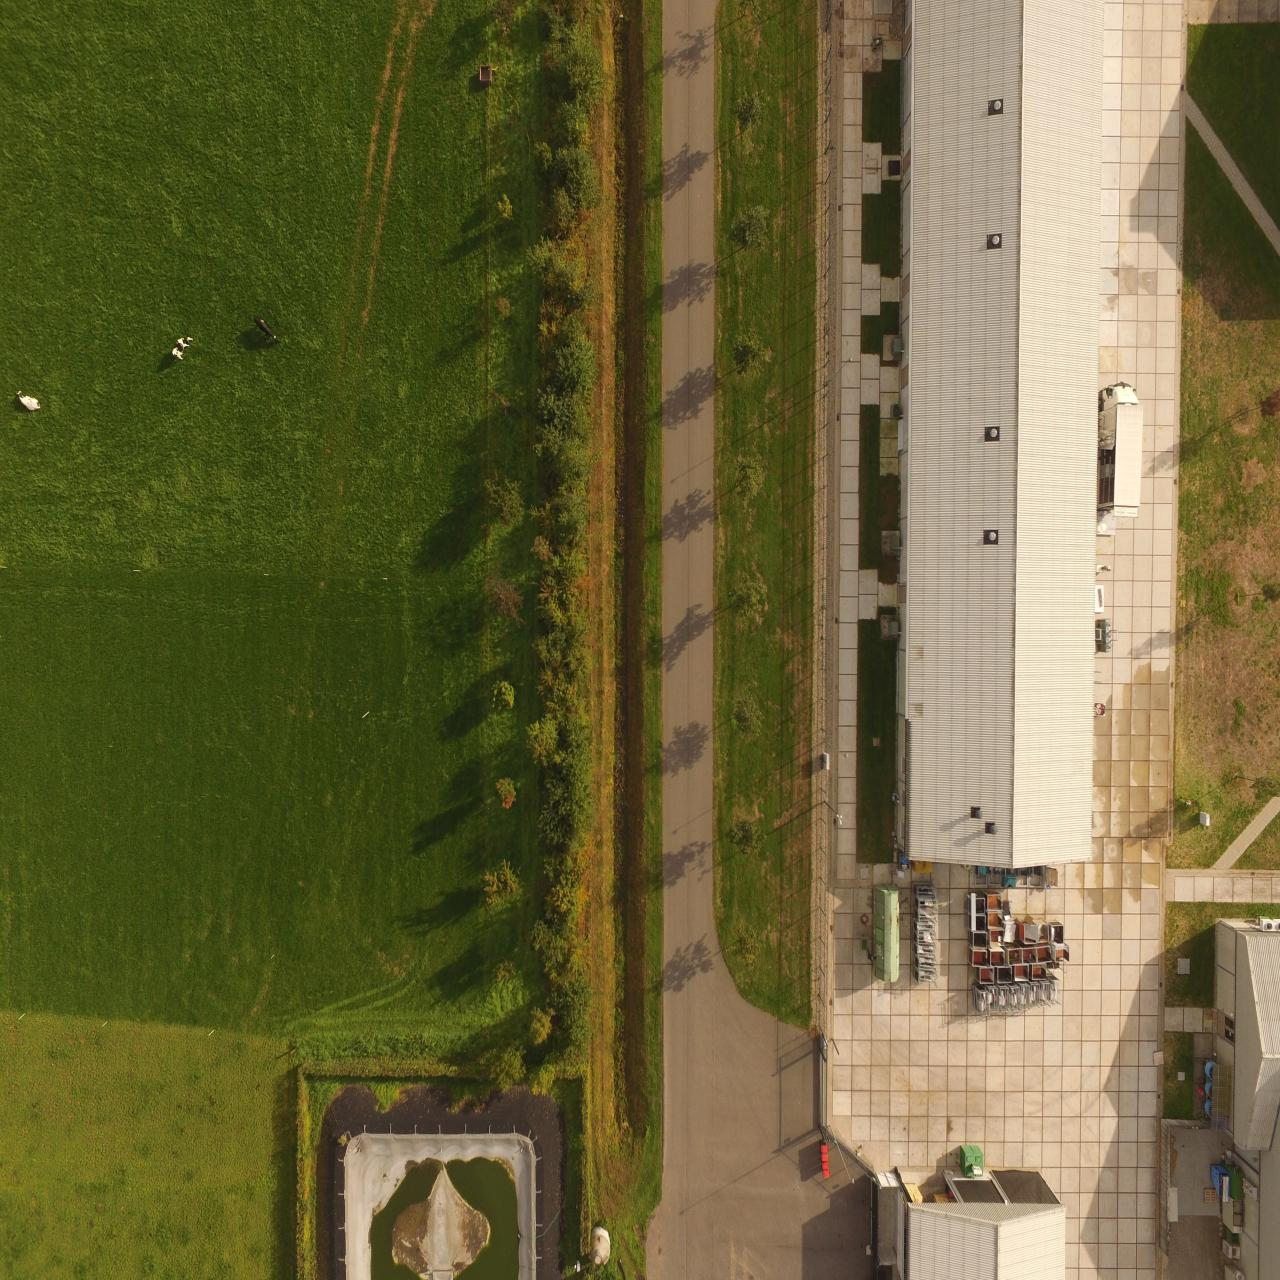cow: (250, 309, 287, 349), (12, 388, 47, 423), (169, 329, 195, 362)
